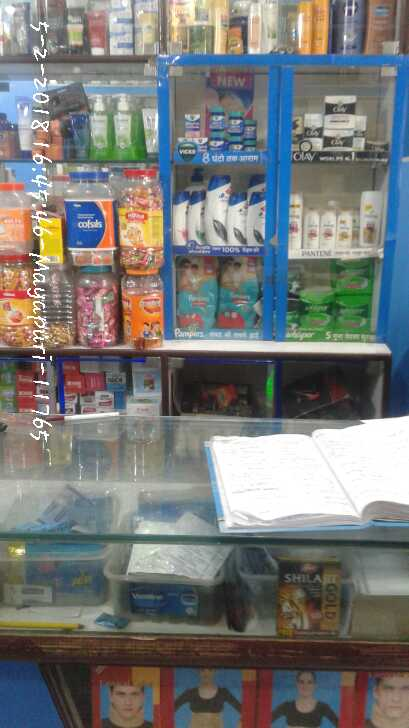vicks: (183, 102, 259, 151)
